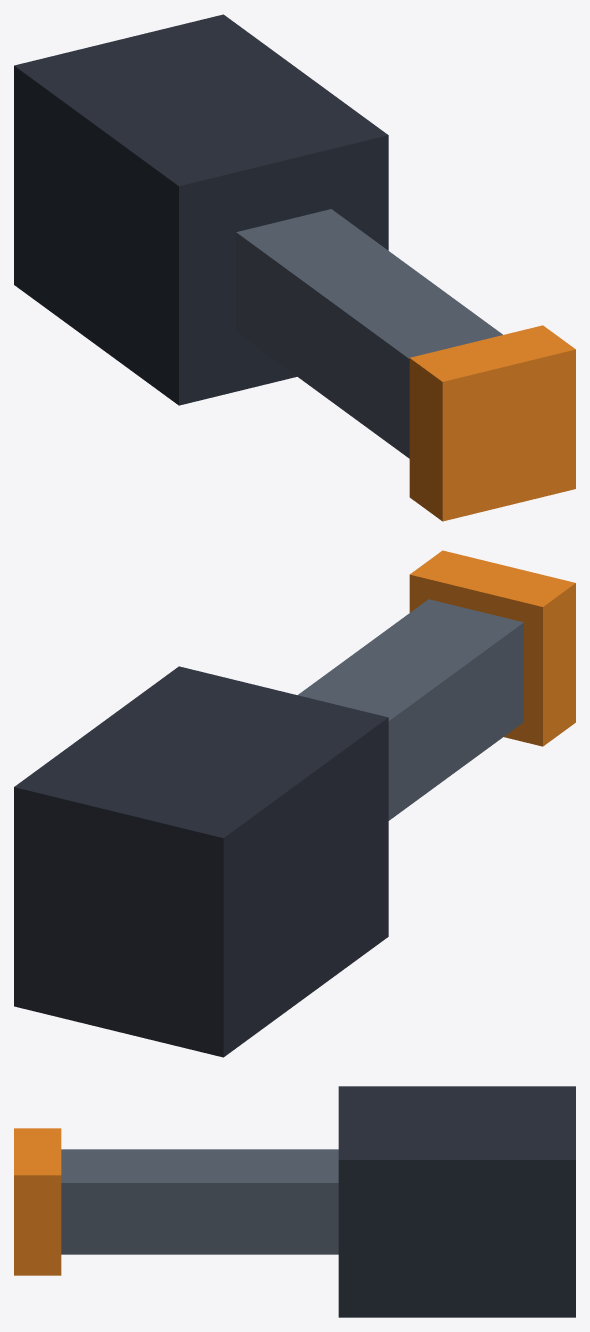
The model's file is tdf-mech-weapon-arm-autocannon.glb.
The picture shows the model from 3 angles, top to bottom: view 1: azimuth 30°, elevation 25°; view 2: azimuth 150°, elevation 25°; view 3: azimuth 270°, elevation 25°; orthographic projection. The views are drawn at different scales.
Visible parts, largest first — view 1: receiver, barrel, muzzle; view 2: receiver, barrel, muzzle; view 3: receiver, barrel, muzzle.
Part boxes in pixels (bbox=[...]): receiver: bbox=[14, 14, 388, 405]; barrel: bbox=[236, 209, 502, 458]; muzzle: bbox=[409, 325, 575, 521]; receiver: bbox=[14, 666, 388, 1057]; barrel: bbox=[298, 599, 523, 820]; muzzle: bbox=[409, 550, 575, 746]; receiver: bbox=[338, 1086, 575, 1317]; barrel: bbox=[61, 1149, 338, 1254]; muzzle: bbox=[14, 1128, 61, 1275].
Size of the model in its own units: 0.22 by 0.22 by 0.71.
